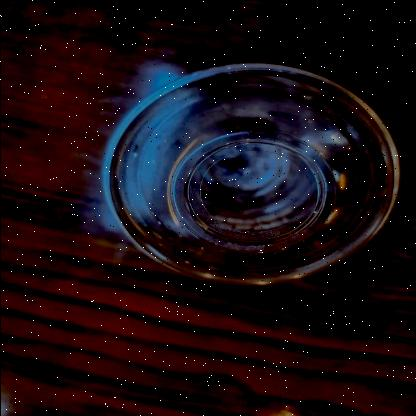Others: (100, 58, 400, 284)
